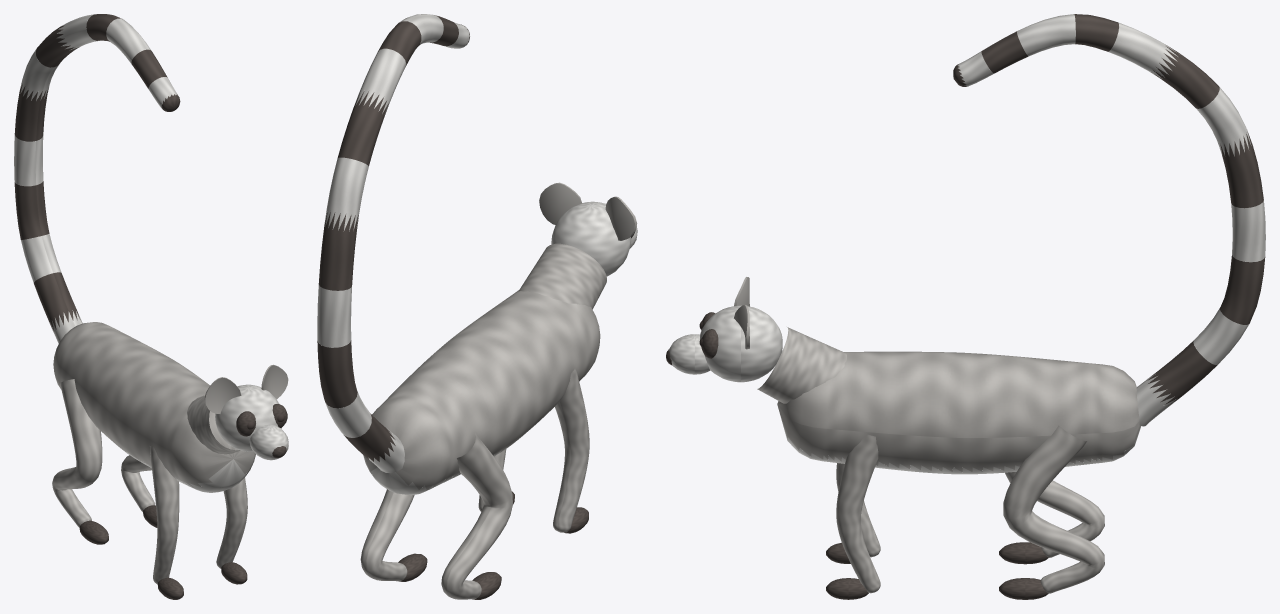
The model's file is other-ring-tailed-lemur.glb.
3 renders of one model, left to right at view 1: azimuth 30°, elevation 25°; view 2: azimuth 150°, elevation 25°; view 3: azimuth 270°, elevation 25°, orthographic. The views are drawn at different scales.
Visible parts, largest first — view 1: ring-tailed-lemur; view 2: ring-tailed-lemur; view 3: ring-tailed-lemur.
Part boxes in pixels (bbox=[...]): ring-tailed-lemur: bbox=[14, 14, 288, 599]; ring-tailed-lemur: bbox=[317, 14, 637, 599]; ring-tailed-lemur: bbox=[666, 14, 1265, 599].
Size of the model in its own units: 0.1773 by 0.8216 by 0.7803.
Materials: 4 (3 with a texture image).
